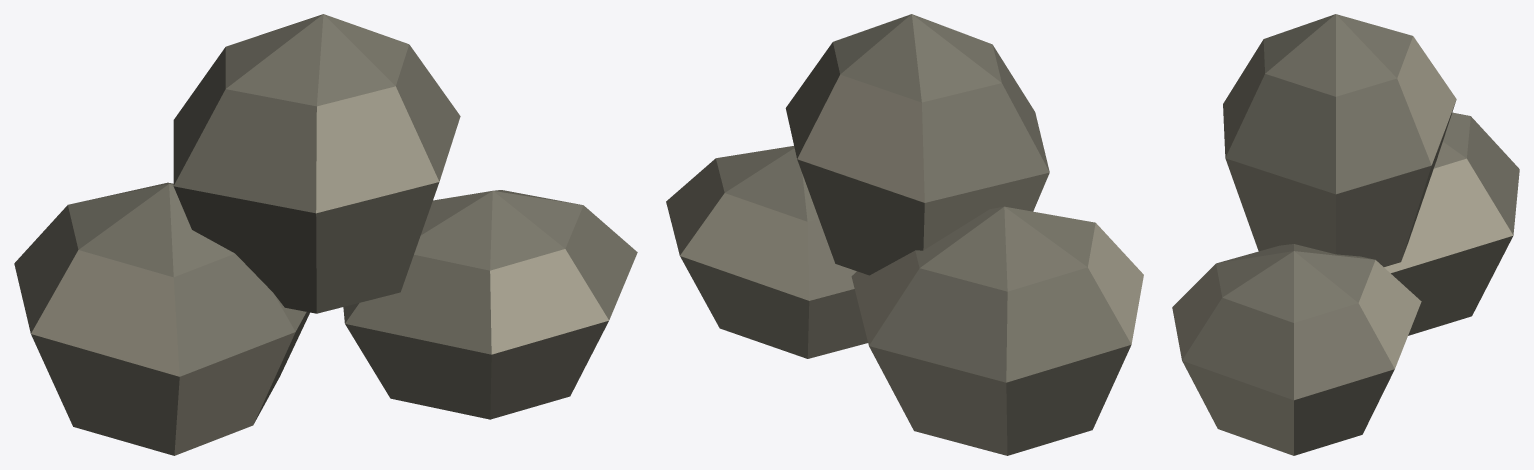
File: Stone.gltf
The picture shows the model from 3 angles, left to right: view 1: azimuth 30°, elevation 25°; view 2: azimuth 150°, elevation 25°; view 3: azimuth 270°, elevation 25°; orthographic projection. The views are drawn at different scales.
Visible parts, largest first — view 1: Stone; view 2: Stone; view 3: Stone.
Boxes of the visible parts, bbox=[...] form: Stone: bbox=[14, 14, 637, 455]; Stone: bbox=[666, 14, 1143, 455]; Stone: bbox=[1172, 14, 1519, 455].
Size of the model in its own units: 0.4776 by 0.31 by 0.2902.
